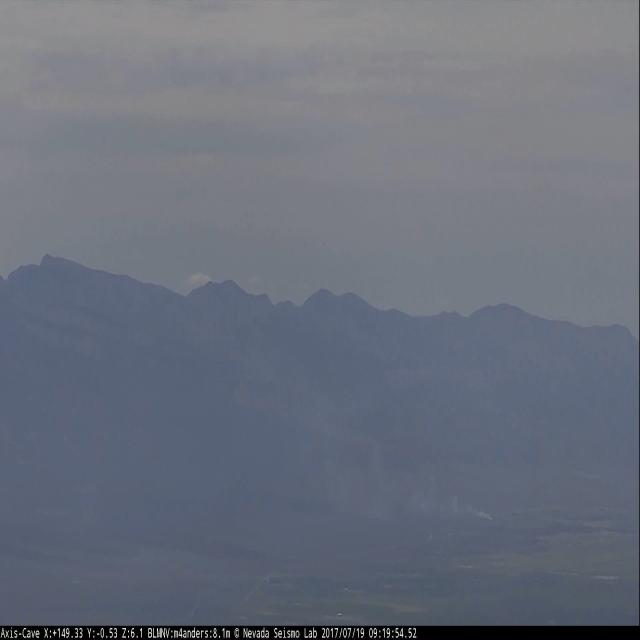smoke: (368, 442, 494, 526)
